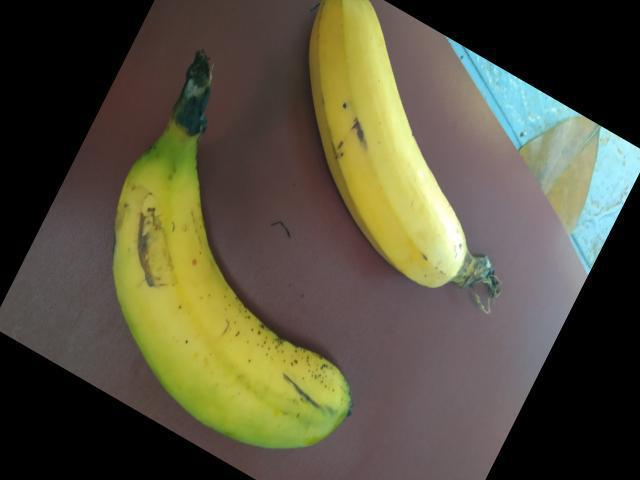freshripe: (297, 0, 477, 293)
ripe: (99, 100, 376, 479)
